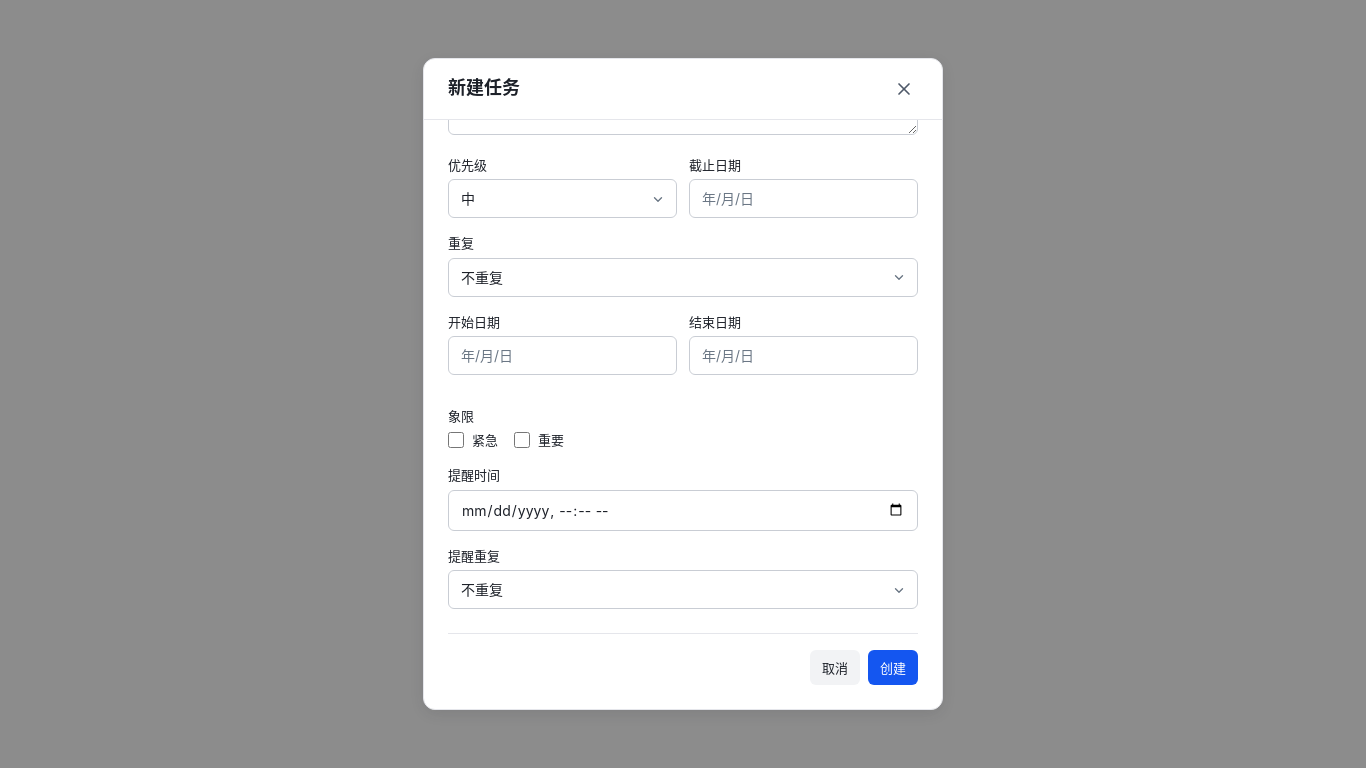
Test: TaskForm › reminder rule controls › shows boundary controls only for repeating rules
(page scrolled)
Select "每天" in the dropdown with test id "task-form-reminder-recurrence" at coordinates (683, 590), box x1=448 y1=570 x2=918 y2=609
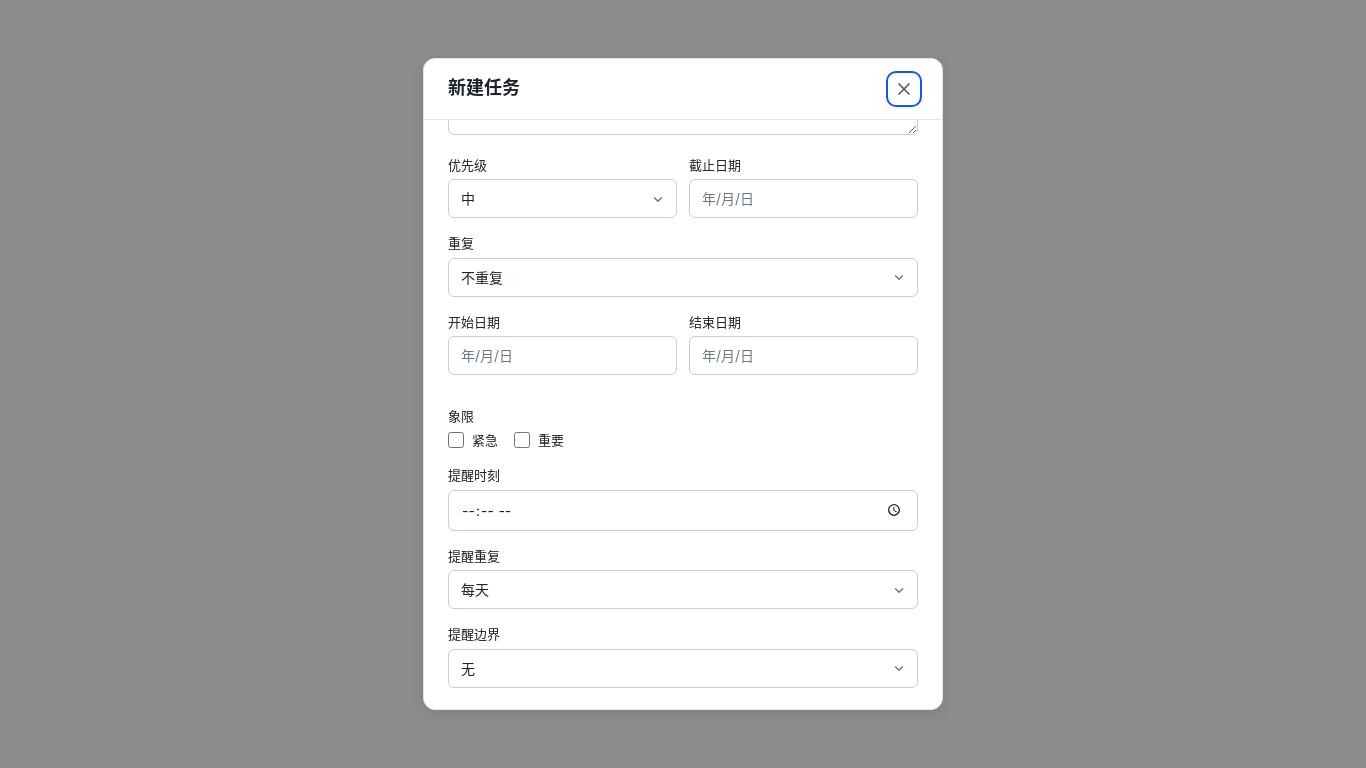
Now the dropdown with test id "task-form-reminder-boundary" is shown, box x1=448 y1=649 x2=918 y2=688
